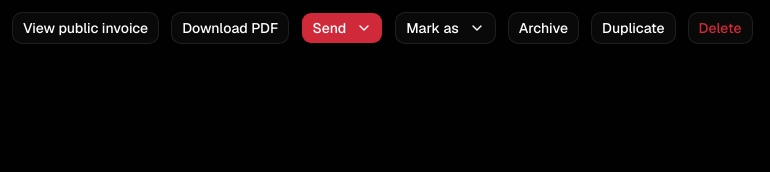
Scenario: InvoiceActions — paid status › Mark as menu hides the Paid item (already paid) and offers Unpaid
The image size is (770, 172).
Click the button "Mark as".
click(446, 28)  # box x1=395 y1=12 x2=496 y2=44
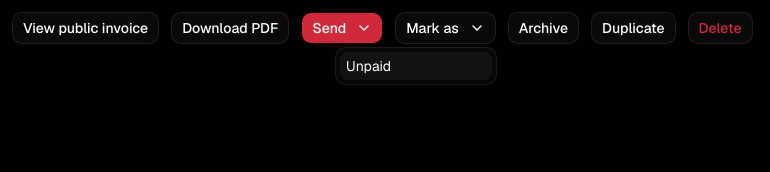
Check: the menu item "Unpaid" is shown, box x1=340 y1=52 x2=492 y2=80
